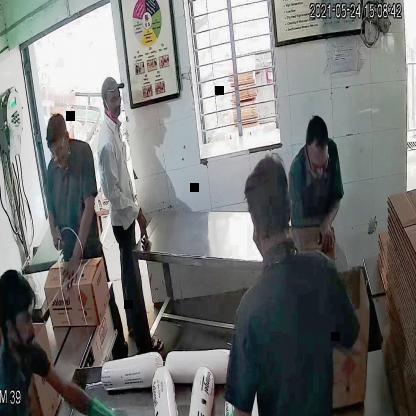goggles: (44, 136, 67, 162)
no_goggles: (100, 89, 122, 107)
